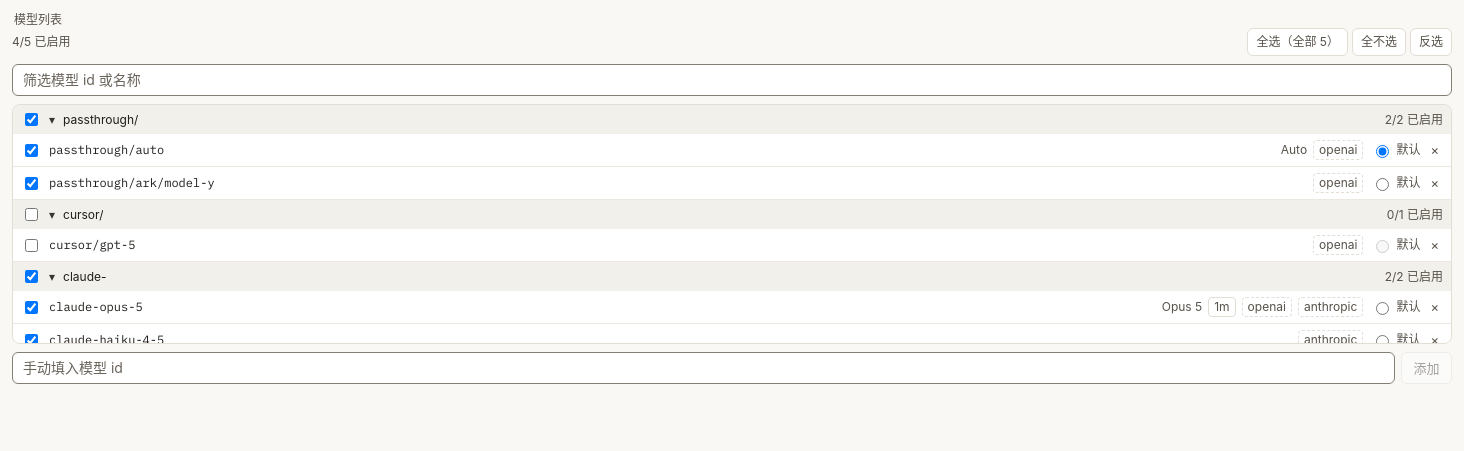
Test: ModelList bulk controls › 全不选 over the whole catalog clears the count, and 反选 flips it back
Click the button with test id "provider-models-none": (1379, 42) [1352,28,1406,56]
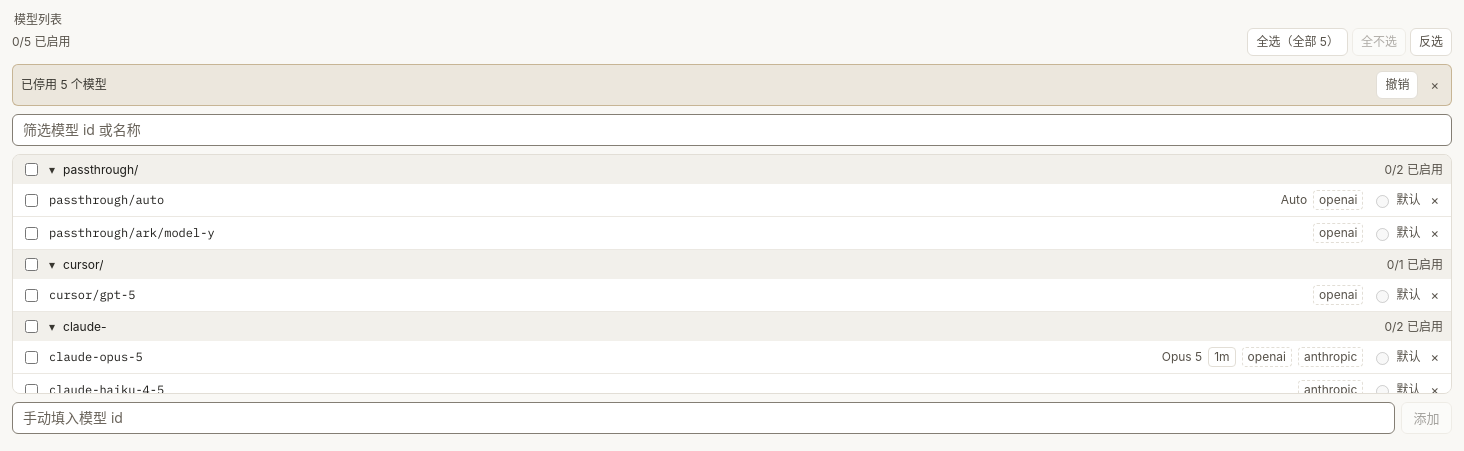
expect the text with test id "provider-models-count" reads "0/5 已启用": met, box [12,34,70,49]
Click the button with test id "provider-models-invert": (1431, 42) [1410,28,1452,56]
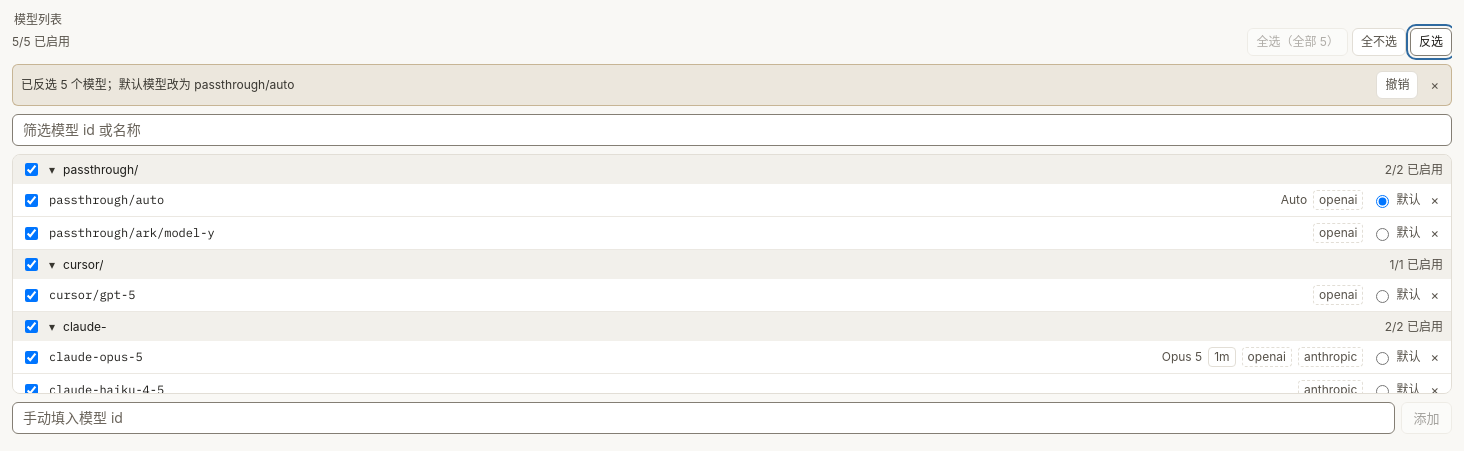
expect the text with test id "provider-models-count" reads "5/5 已启用": met, box [12,34,70,49]
